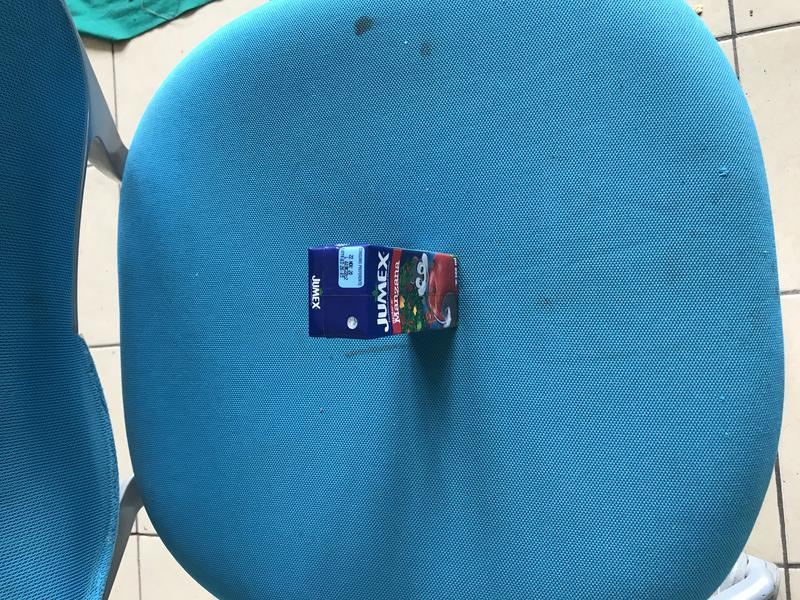jumex_cajita: (307, 244, 459, 342)
